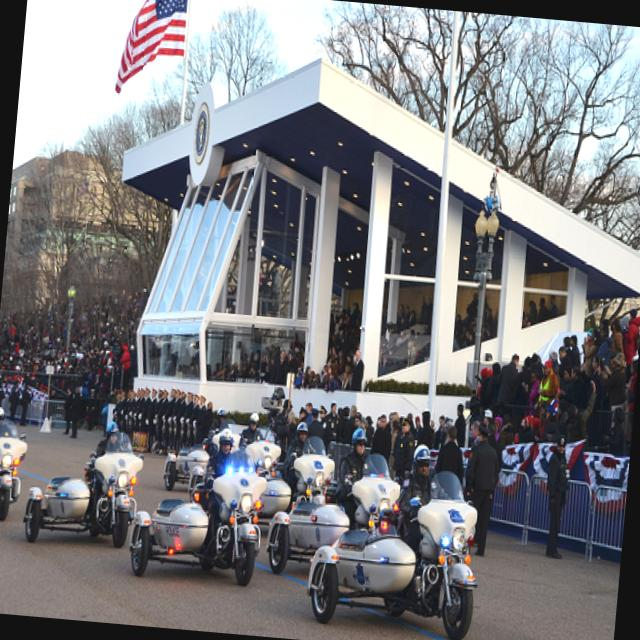Vehicle: (262, 444, 403, 584), (125, 452, 268, 584), (300, 512, 424, 632), (19, 442, 144, 552), (405, 468, 484, 608), (259, 432, 337, 521), (234, 428, 284, 494), (0, 415, 29, 523), (161, 439, 213, 494)
